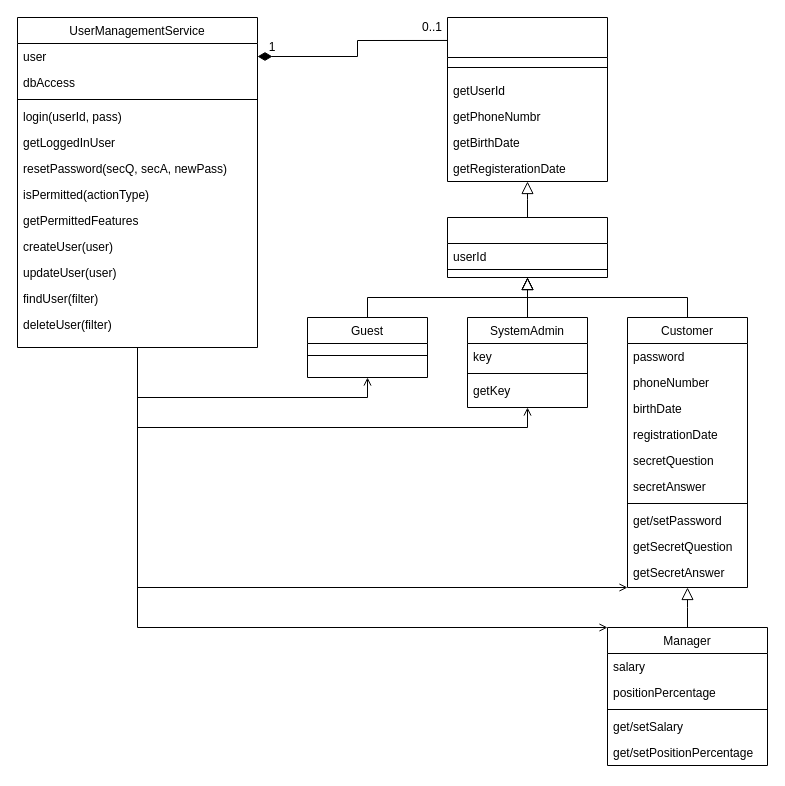
Image size: 785x786. Some labels were removed from this diagram. The shapes that lost their labels are listed below. From the top down, each one's box as (x1, y1, x2, y2) in pixels, then its label:
(446, 16, 608, 182): «interface» User
(446, 216, 608, 278): AbstractUser
